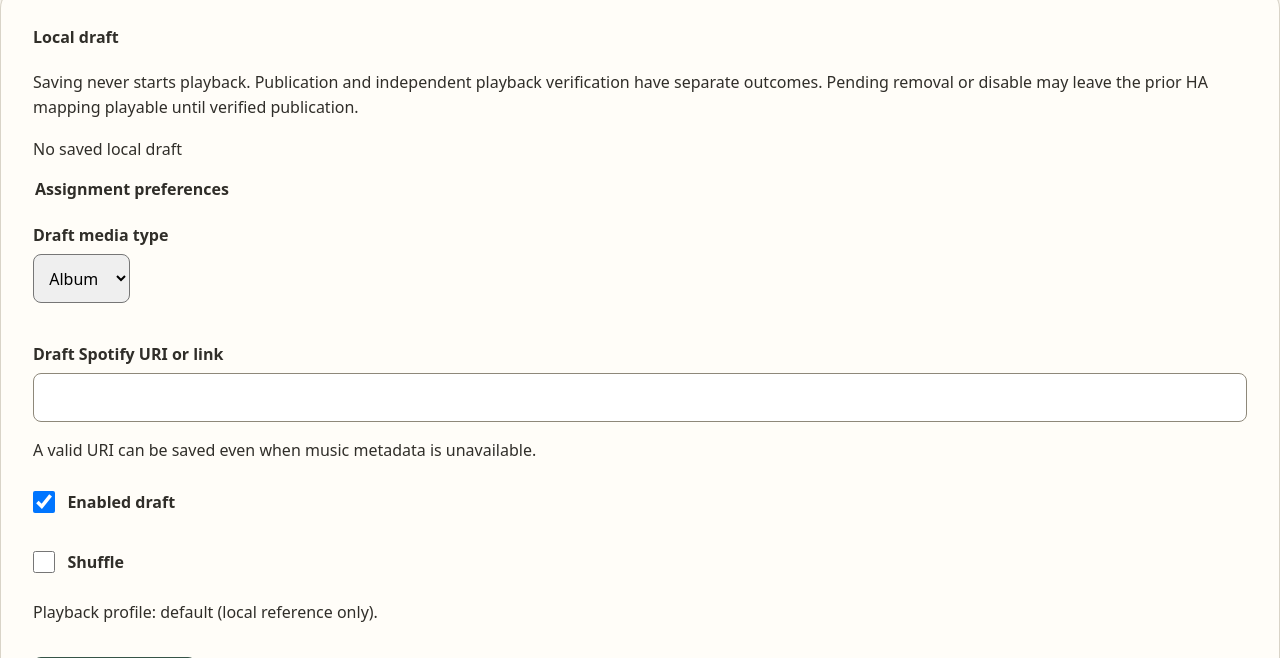
Test: allows correction after validation failure without losing preferences
Type "invalid" into the field labelled "Draft Spotify URI or link" at (640, 398), box [33,373,1247,422]
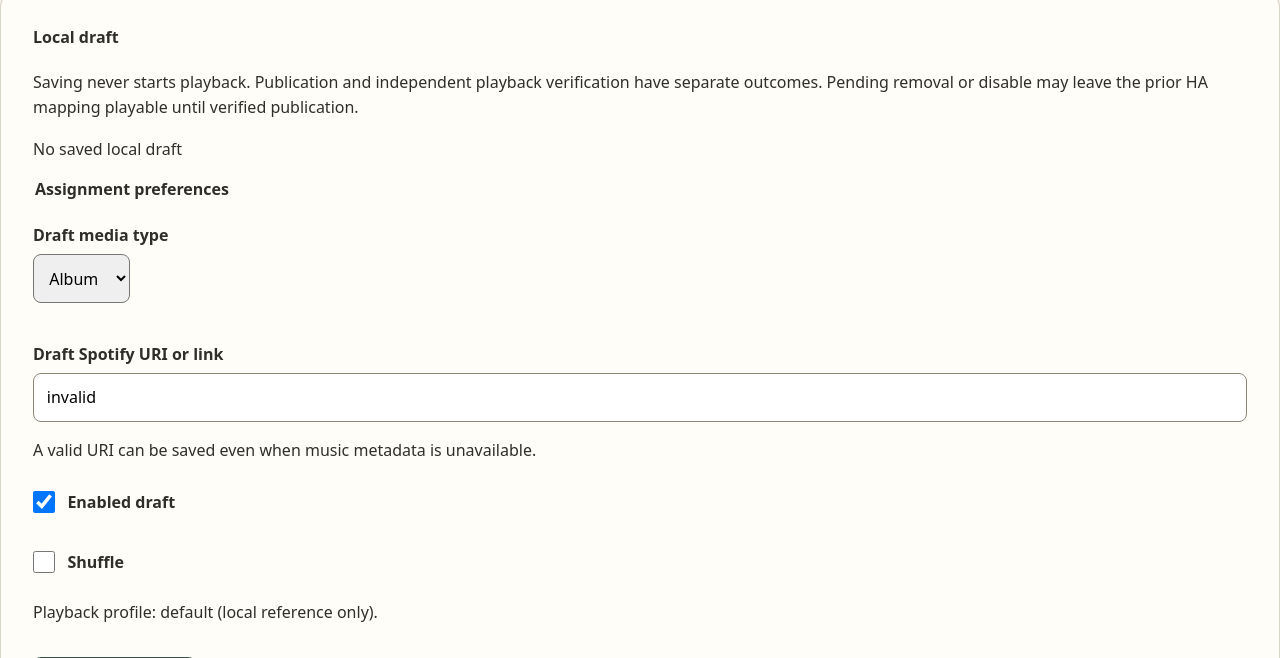
Click the checkbox labelled "Shuffle" at (44, 562), box [33,540,55,584]
(page scrolled)
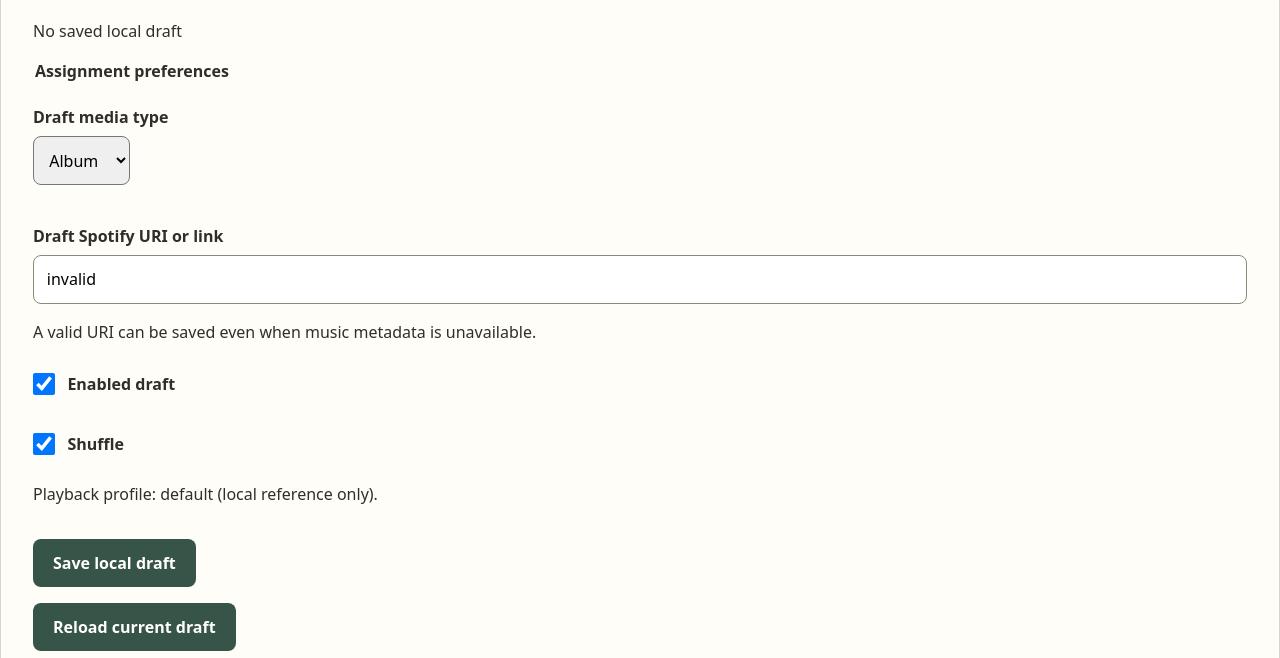
Click the button "Save local draft" at (114, 563), box [33,540,196,587]
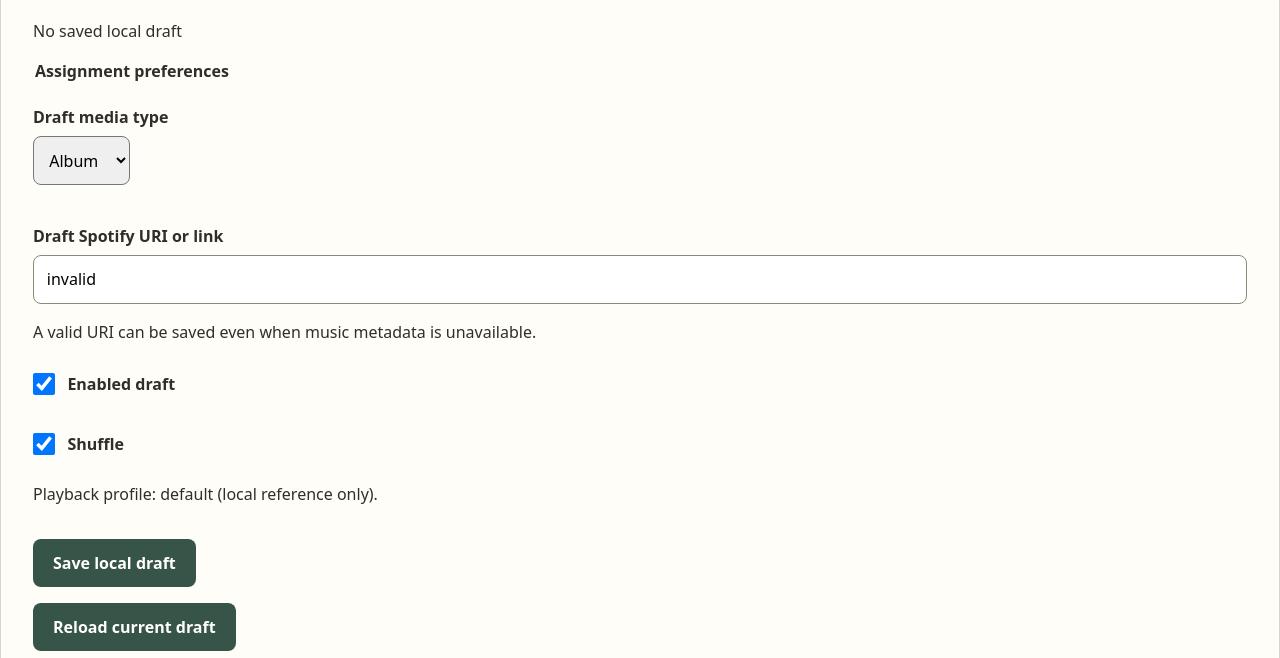
Expected: the checkbox labelled "Shuffle" is checked, [33,422,55,466]
Replace the text in the field labelled "Draft Spotify URI or link" with "spotify:album:0123456789ABCDEFGHIJKL" at (640, 280), box [33,255,1247,304]
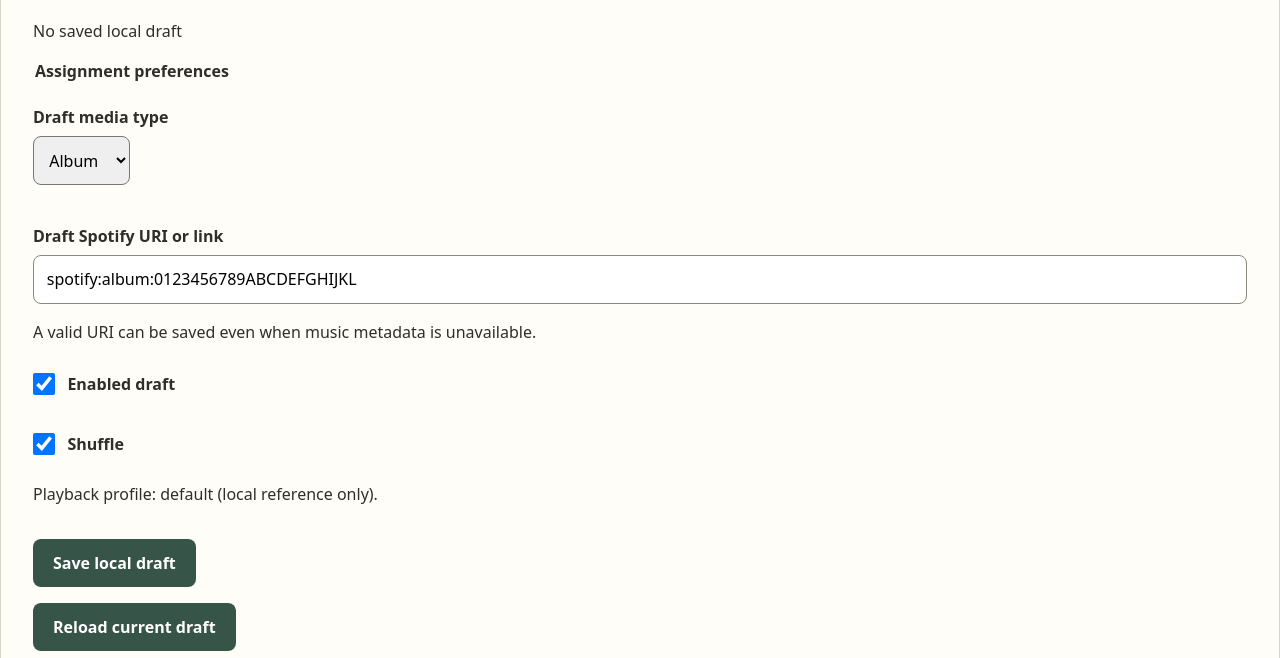
Click the button "Save local draft" at (114, 563), box [33,540,196,587]
(page scrolled)
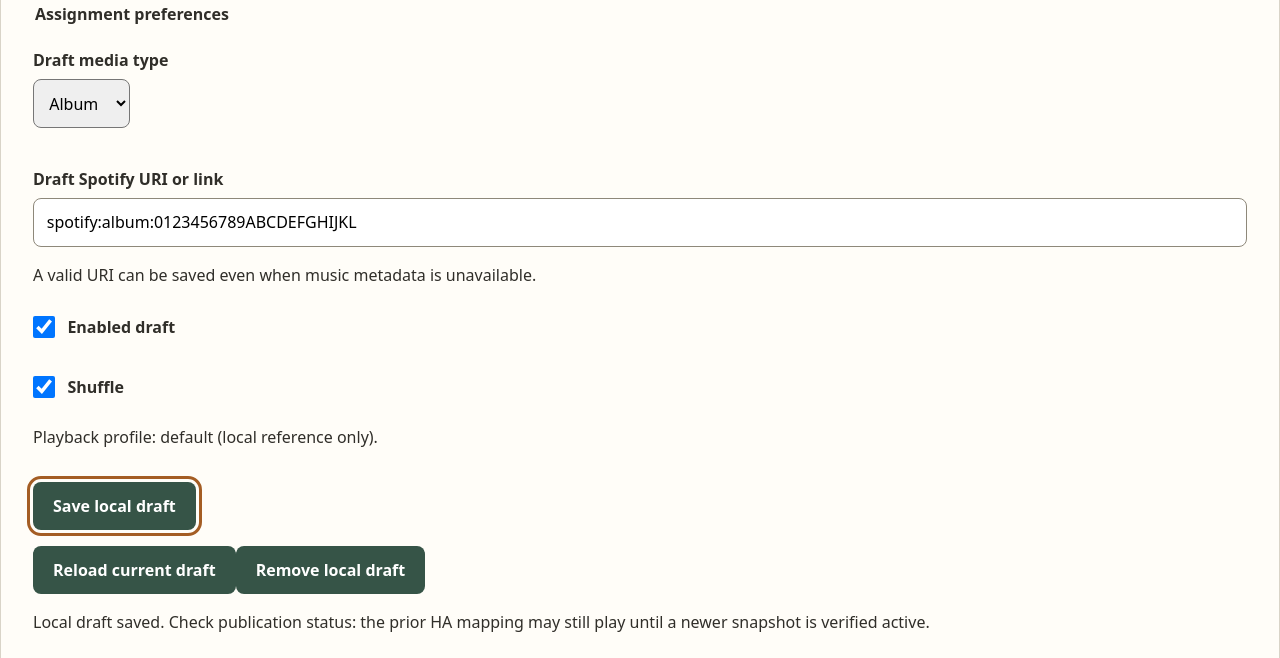
Expected: the text "Local draft saved. Check publication status: the prior HA mapping may still play until a newer snapshot is verified acti" is shown, [33,611,930,633]
